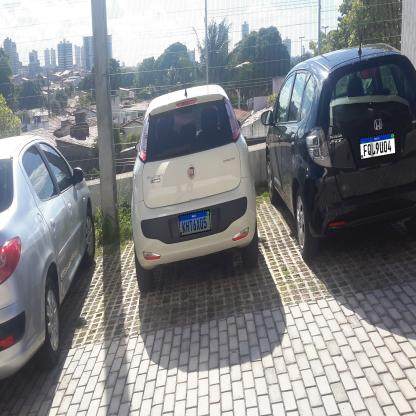PlacaM: (359, 132, 396, 160), (178, 209, 211, 237)
